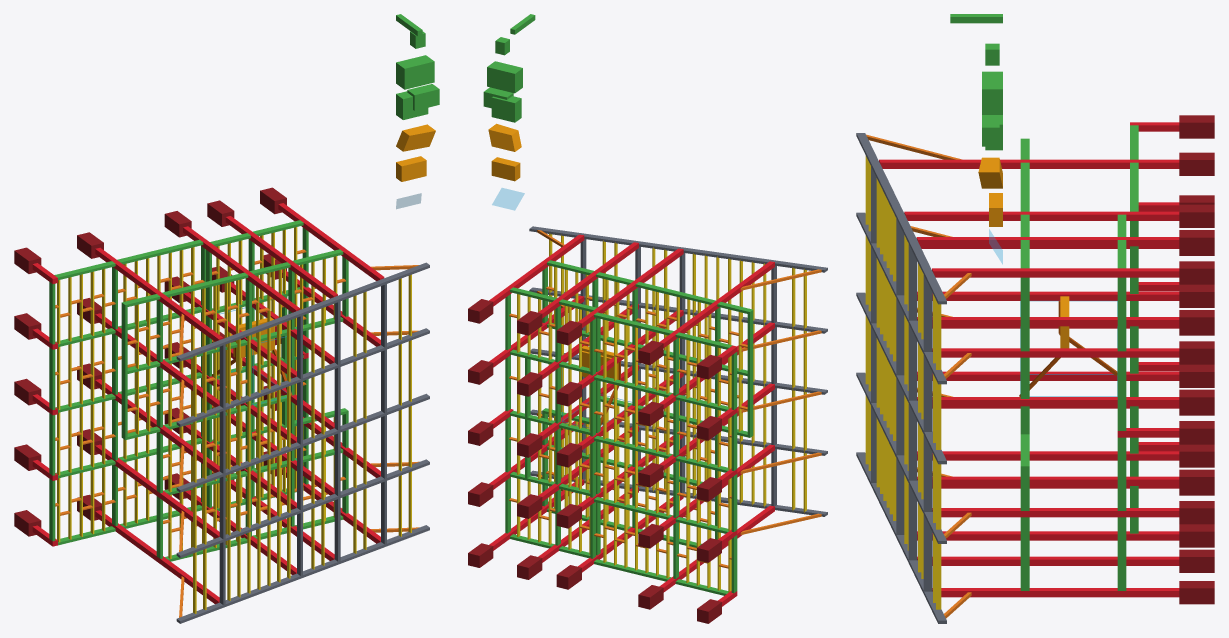
Rendered from tinker.obj.
3 views of the same model, side by side, from view 1: azimuth 30°, elevation 25°; view 2: azimuth 150°, elevation 25°; view 3: azimuth 270°, elevation 25° (orthographic). The views are drawn at different scales.
Visible parts, largest first — view 1: obj_1, obj_420, obj_2, obj_20, obj_15, obj_3, obj_421, obj_4, obj_11, obj_6, obj_419, obj_7 (+10 smaller); view 2: obj_1, obj_420, obj_2, obj_421, obj_3, obj_4, obj_419, obj_20, obj_15, obj_7, obj_21, obj_12 (+11 smaller); view 3: obj_1, obj_2, obj_3, obj_4, obj_9, obj_18, obj_23, obj_13, obj_17, obj_22, obj_8, obj_16 (+53 smaller).
Part boxes in pixels (box(x1,y1,x2,y2)): obj_1: box(95, 247, 222, 341); obj_420: box(396, 84, 439, 119); obj_2: box(183, 226, 300, 312); obj_20: box(95, 510, 219, 603); obj_15: box(95, 444, 219, 538); obj_3: box(225, 216, 337, 298); obj_421: box(396, 55, 434, 89); obj_4: box(278, 203, 384, 280); obj_11: box(95, 379, 219, 472); obj_6: box(95, 313, 219, 407); obj_419: box(396, 124, 435, 151); obj_7: box(183, 292, 296, 378); obj_1: box(659, 261, 774, 347); obj_420: box(483, 87, 521, 122); obj_2: box(578, 248, 683, 327); obj_421: box(487, 61, 522, 93); obj_3: box(538, 242, 638, 318); obj_4: box(489, 234, 584, 306); obj_419: box(488, 123, 521, 151); obj_20: box(659, 505, 774, 592); obj_15: box(659, 444, 774, 531); obj_7: box(578, 310, 683, 389); obj_21: box(578, 496, 683, 572); obj_12: box(578, 372, 683, 450); obj_1: box(879, 159, 1179, 168); obj_2: box(904, 211, 1179, 220); obj_3: box(916, 237, 1179, 246); obj_4: box(932, 268, 1179, 277); obj_9: box(932, 348, 1179, 357); obj_18: box(932, 508, 1179, 517); obj_23: box(932, 588, 1179, 597); obj_13: box(917, 397, 1179, 406); obj_17: box(917, 476, 1179, 485); obj_22: box(917, 556, 1179, 565); obj_8: box(917, 317, 1179, 326); obj_16: box(917, 451, 1179, 460).
Bounding box in the file's own units: 132 × 192 × 102.
